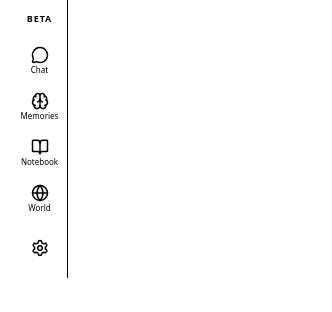
Test case: IconRailV2 › clicking "Notebook" opens a popover with Dates, Todos, Lists, Artifacts (no Topics)
Click the button labelled "Notebook".
click(40, 152)  # box [16,132,64,172]
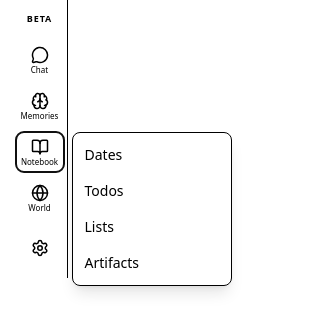
expect the menu item "Dates" is shown: met, box [72,136,230,172]
expect the menu item "Todos" is shown: met, box [72,172,230,208]
expect the menu item "Lists" is shown: met, box [72,208,230,244]
